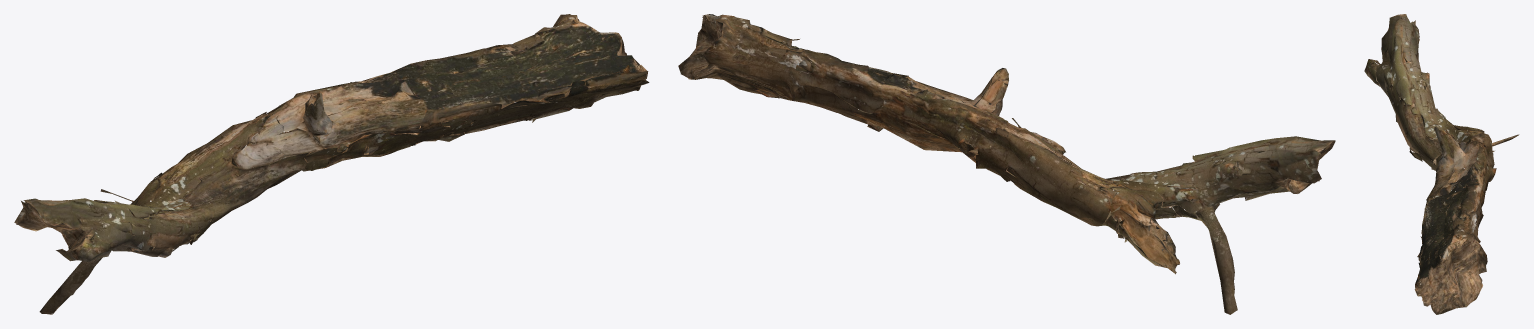
Rendered from dead_tree_trunk_02.glb.
The picture shows the model from 3 angles, left to right: view 1: azimuth 30°, elevation 25°; view 2: azimuth 150°, elevation 25°; view 3: azimuth 270°, elevation 25°; orthographic projection. The views are drawn at different scales.
Visible parts, largest first — view 1: lod0; view 2: lod0; view 3: lod0.
Boxes of the visible parts, box(x1,y1,x2,y2) form: lod0: box(14, 14, 649, 314); lod0: box(678, 14, 1335, 314); lod0: box(1364, 14, 1519, 314).
Size of what is drawn, in the model's own units: 4.05 by 1.06 by 1.05.
1 material, 1 textured.
